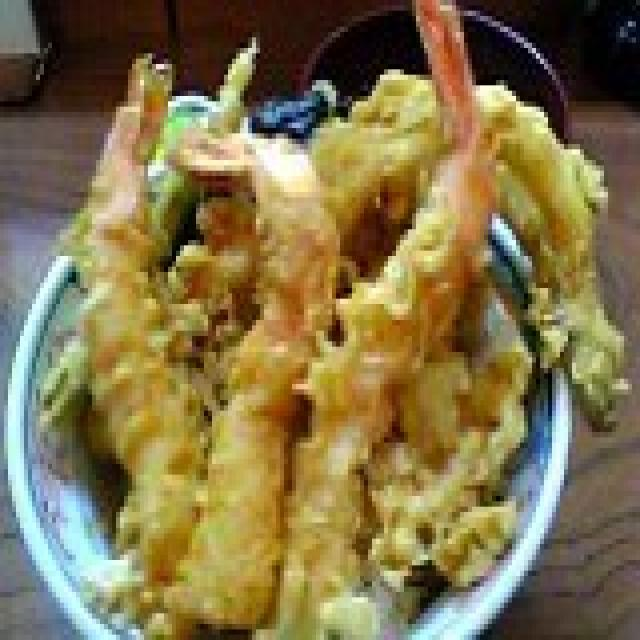熟制海鲜: (0, 4, 177, 177)
